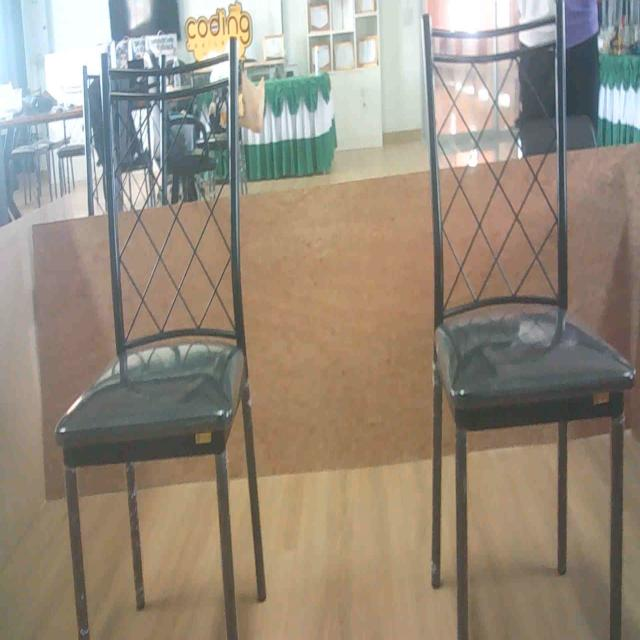empty: (419, 12, 640, 425), (54, 49, 249, 467)
